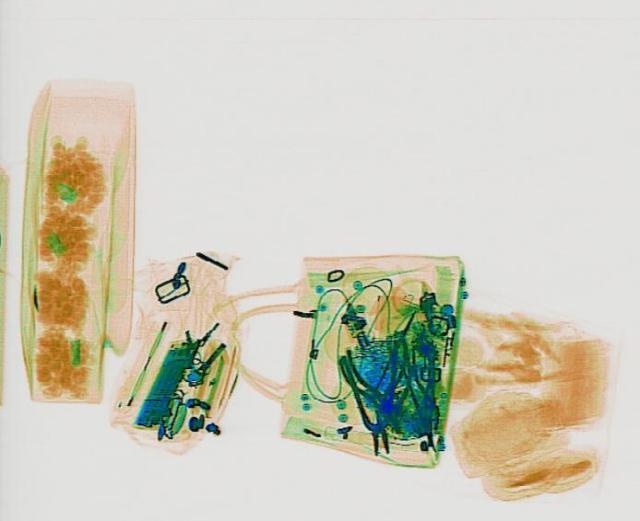Pliers: (336, 342, 410, 455)
